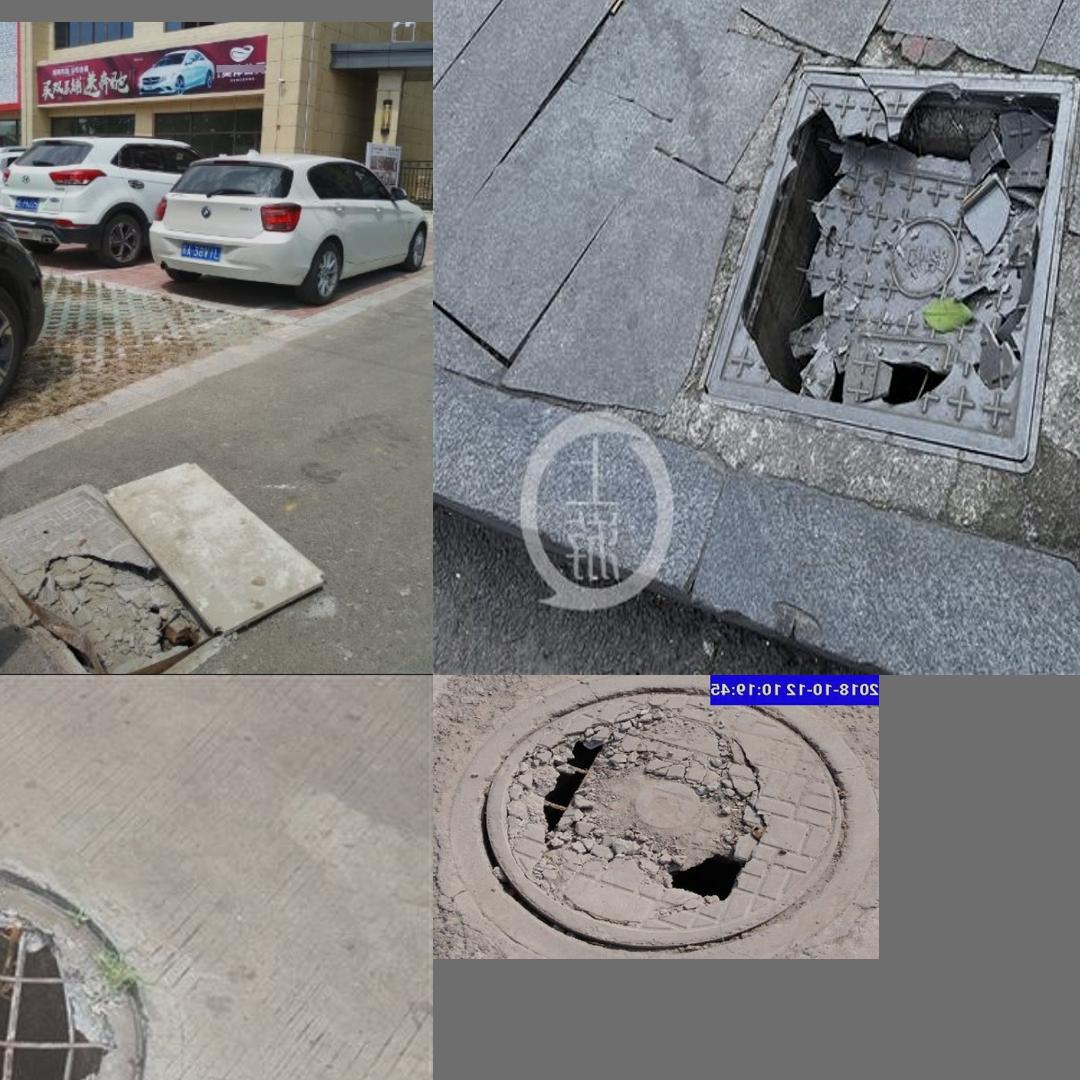broke: (646, 32, 1080, 455), (466, 693, 856, 943), (0, 478, 336, 675), (0, 833, 194, 1080)
